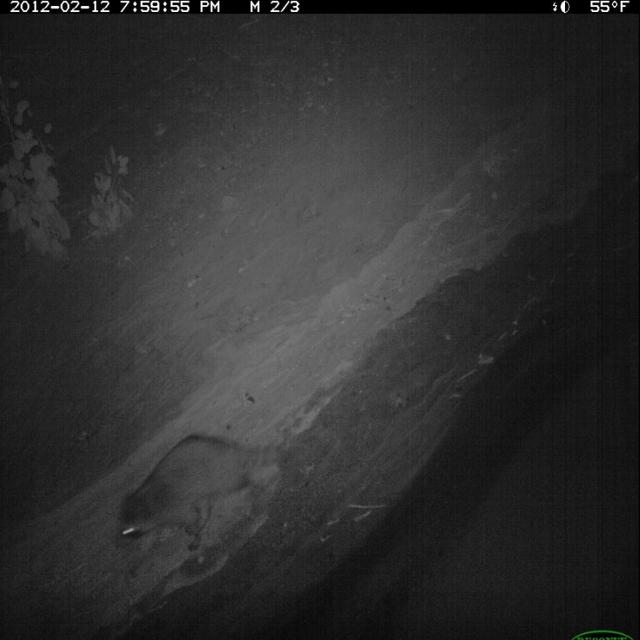raccoon: (111, 429, 261, 562)
